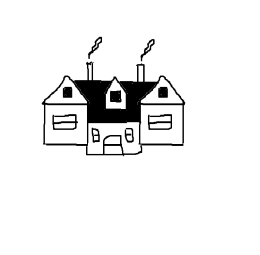closed_window: (143, 112, 176, 135), (50, 110, 79, 135), (89, 125, 103, 146), (123, 126, 136, 146)
door: (102, 133, 123, 162)
shaded_roof: (74, 75, 160, 123)
small_house: (2, 1, 260, 255)
smoking_chimney: (75, 35, 105, 82), (133, 35, 159, 85)
wall: (81, 115, 144, 164), (138, 101, 194, 146), (41, 102, 90, 148)
